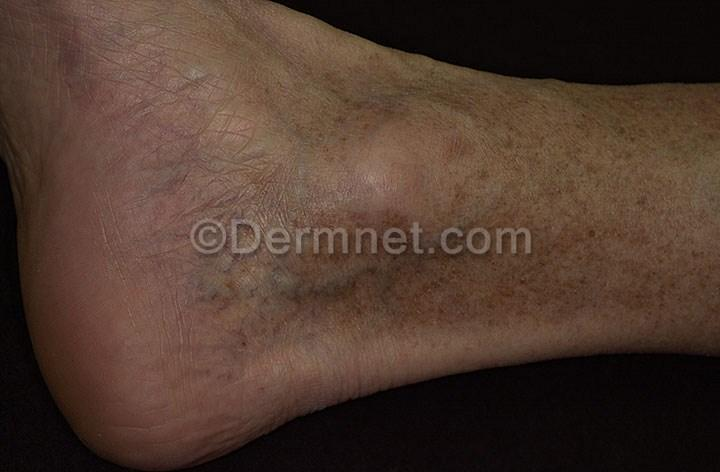Eczema: (464, 114, 561, 201), (444, 240, 535, 327), (629, 233, 715, 325), (345, 262, 439, 340), (295, 189, 392, 262), (541, 244, 631, 321), (560, 117, 661, 180), (288, 262, 361, 340), (298, 56, 380, 125), (287, 118, 350, 199), (379, 63, 463, 123), (649, 86, 720, 155), (485, 197, 597, 239), (461, 75, 551, 122), (667, 155, 720, 231), (391, 192, 475, 237), (601, 176, 659, 241), (552, 85, 641, 124)
